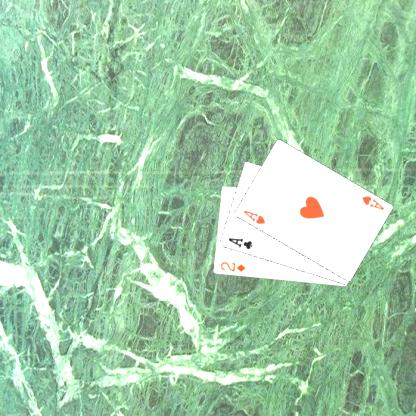2D: (218, 259, 246, 273)
AC: (226, 235, 254, 251)
AH: (359, 193, 385, 212), (241, 207, 266, 226)
